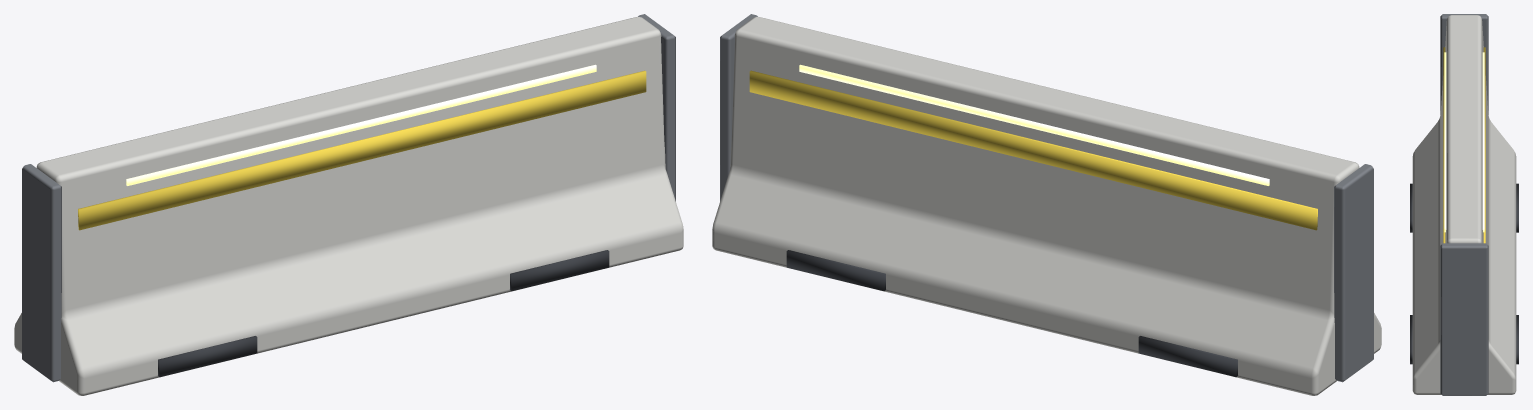
File: kit_barrier.glb
The picture shows the model from 3 angles, left to right: view 1: azimuth 30°, elevation 25°; view 2: azimuth 150°, elevation 25°; view 3: azimuth 270°, elevation 25°; orthographic projection. The views are drawn at different scales.
Visible parts, largest first — view 1: barrier; view 2: barrier; view 3: barrier.
Part boxes in pixels (box(x1,y1,x2,y2)): barrier: box(14, 14, 683, 395); barrier: box(712, 14, 1381, 395); barrier: box(1410, 14, 1518, 395).
Bounding box in the file's own units: 3.2 × 1 × 0.63.
